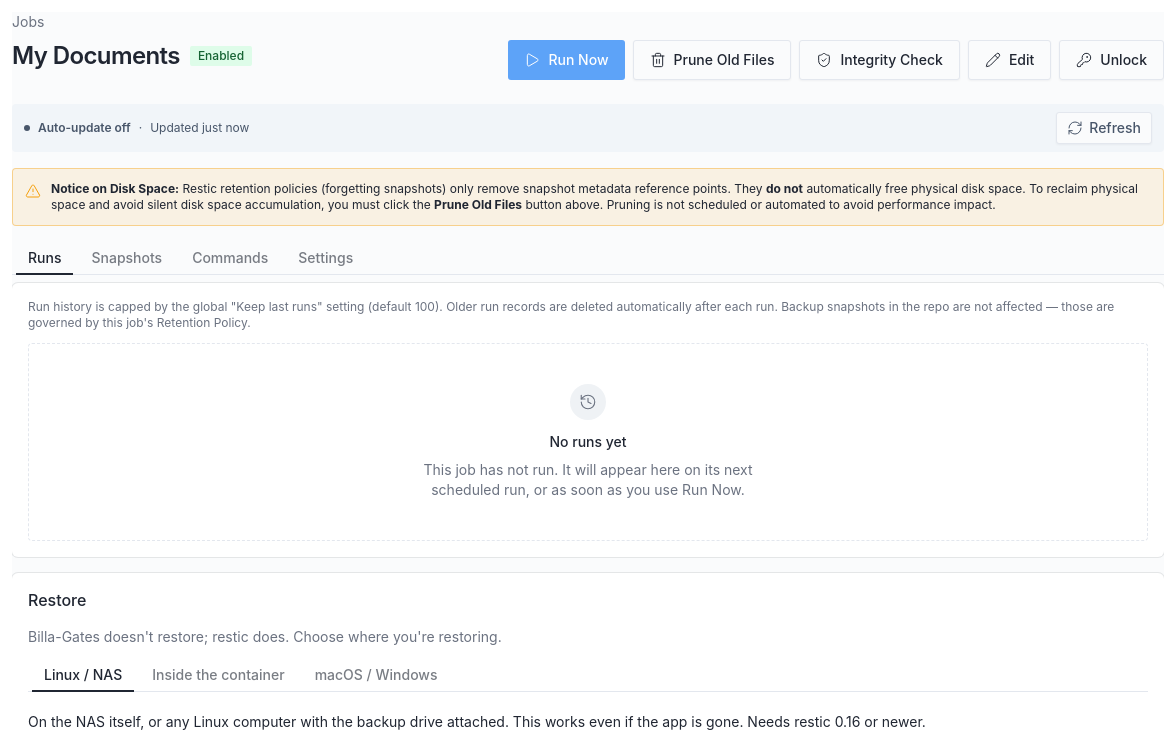
Test case: JobDetail › tab switching › still says "no snapshots yet" when the repo is reachable but empty
What coordinates should you click on to do the following:
click the tab "Snapshots"
I would click on:
 (127, 258)
Its box is [78,246,175,270].
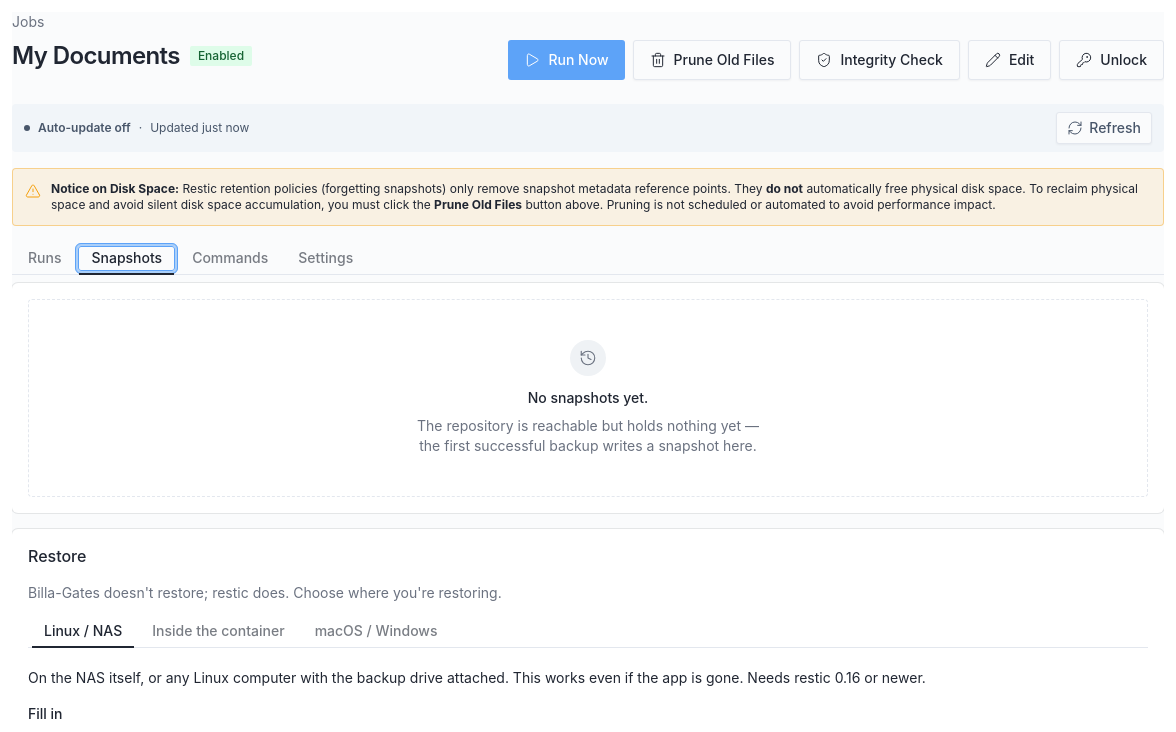
Check: the text "No snapshots yet." is shown, box [528,388,648,408]
